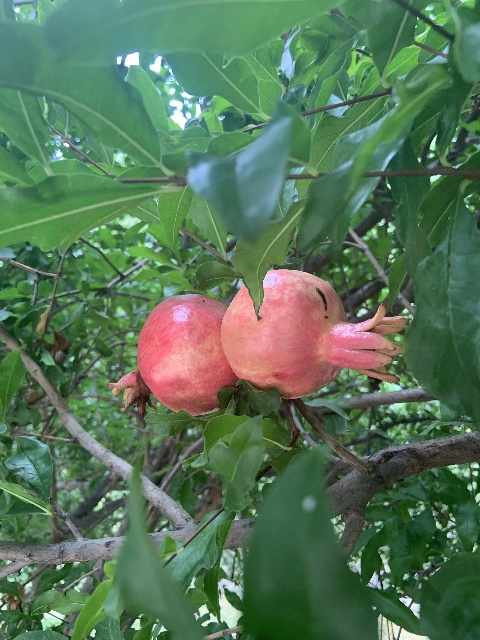ripe: (221, 269, 406, 399), (106, 293, 239, 419)
